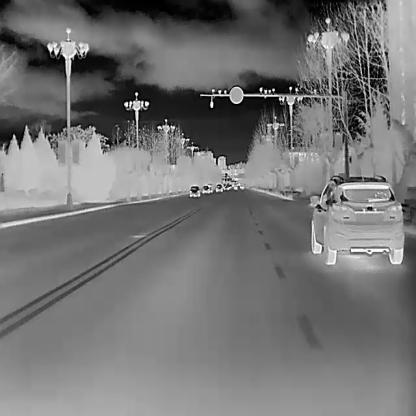car: (309, 174, 403, 264), (189, 185, 200, 197), (201, 186, 209, 194), (215, 184, 222, 192)
sign: (227, 85, 245, 106)
